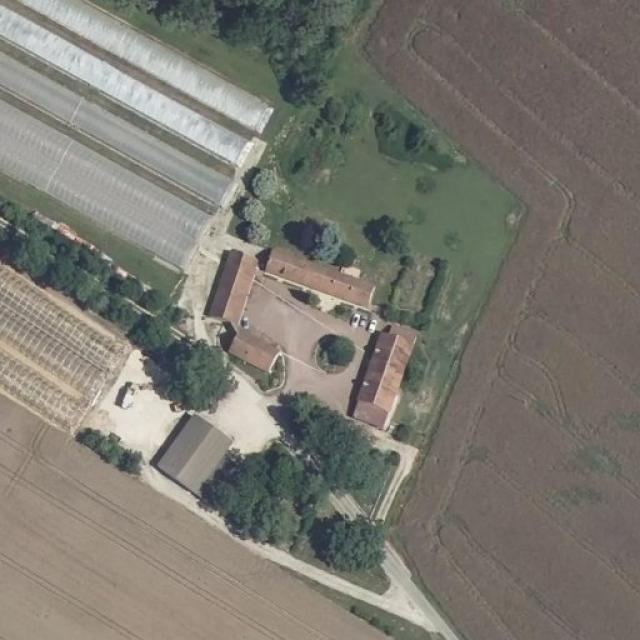ferme: (151, 398, 243, 493)
maison: (205, 234, 284, 374), (263, 233, 383, 307), (350, 318, 421, 437)
